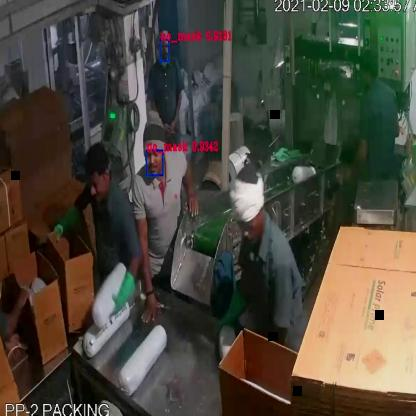glove: (212, 272, 254, 346), (50, 203, 83, 246), (112, 265, 137, 318)
no_glove: (126, 196, 164, 334), (339, 126, 370, 192), (176, 154, 202, 226), (5, 274, 30, 346), (168, 86, 186, 140)
